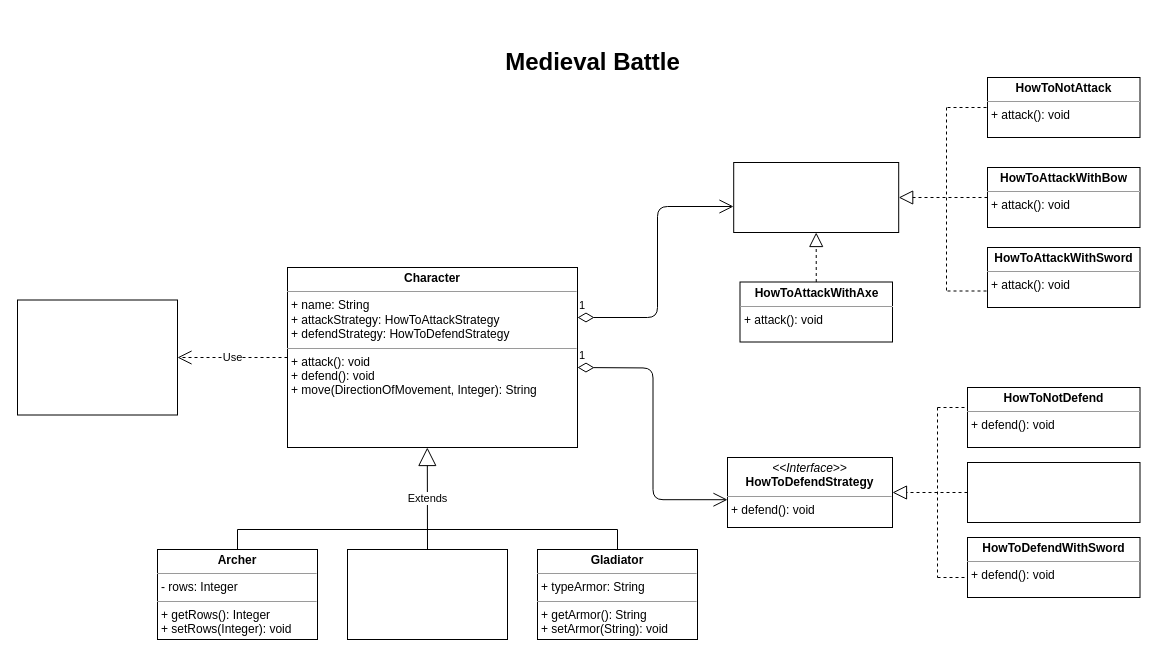
The diagram is 1158 pixels wide and 657 high, and some of its shapes have lost their labels. The centre of each missing label's shape, as x and y in pixels:
<<Enumeration>> DirectionOfMovement North South East West: [97,357]
<<Interface>> HowToAttackStrategy + attack(): void: [816,197]
HowToDefendWithShield + defend(): void: [1053,492]
Sorcerer - mana: Integer + getMana(): Integer + setMana(Integer): void: [427,594]
